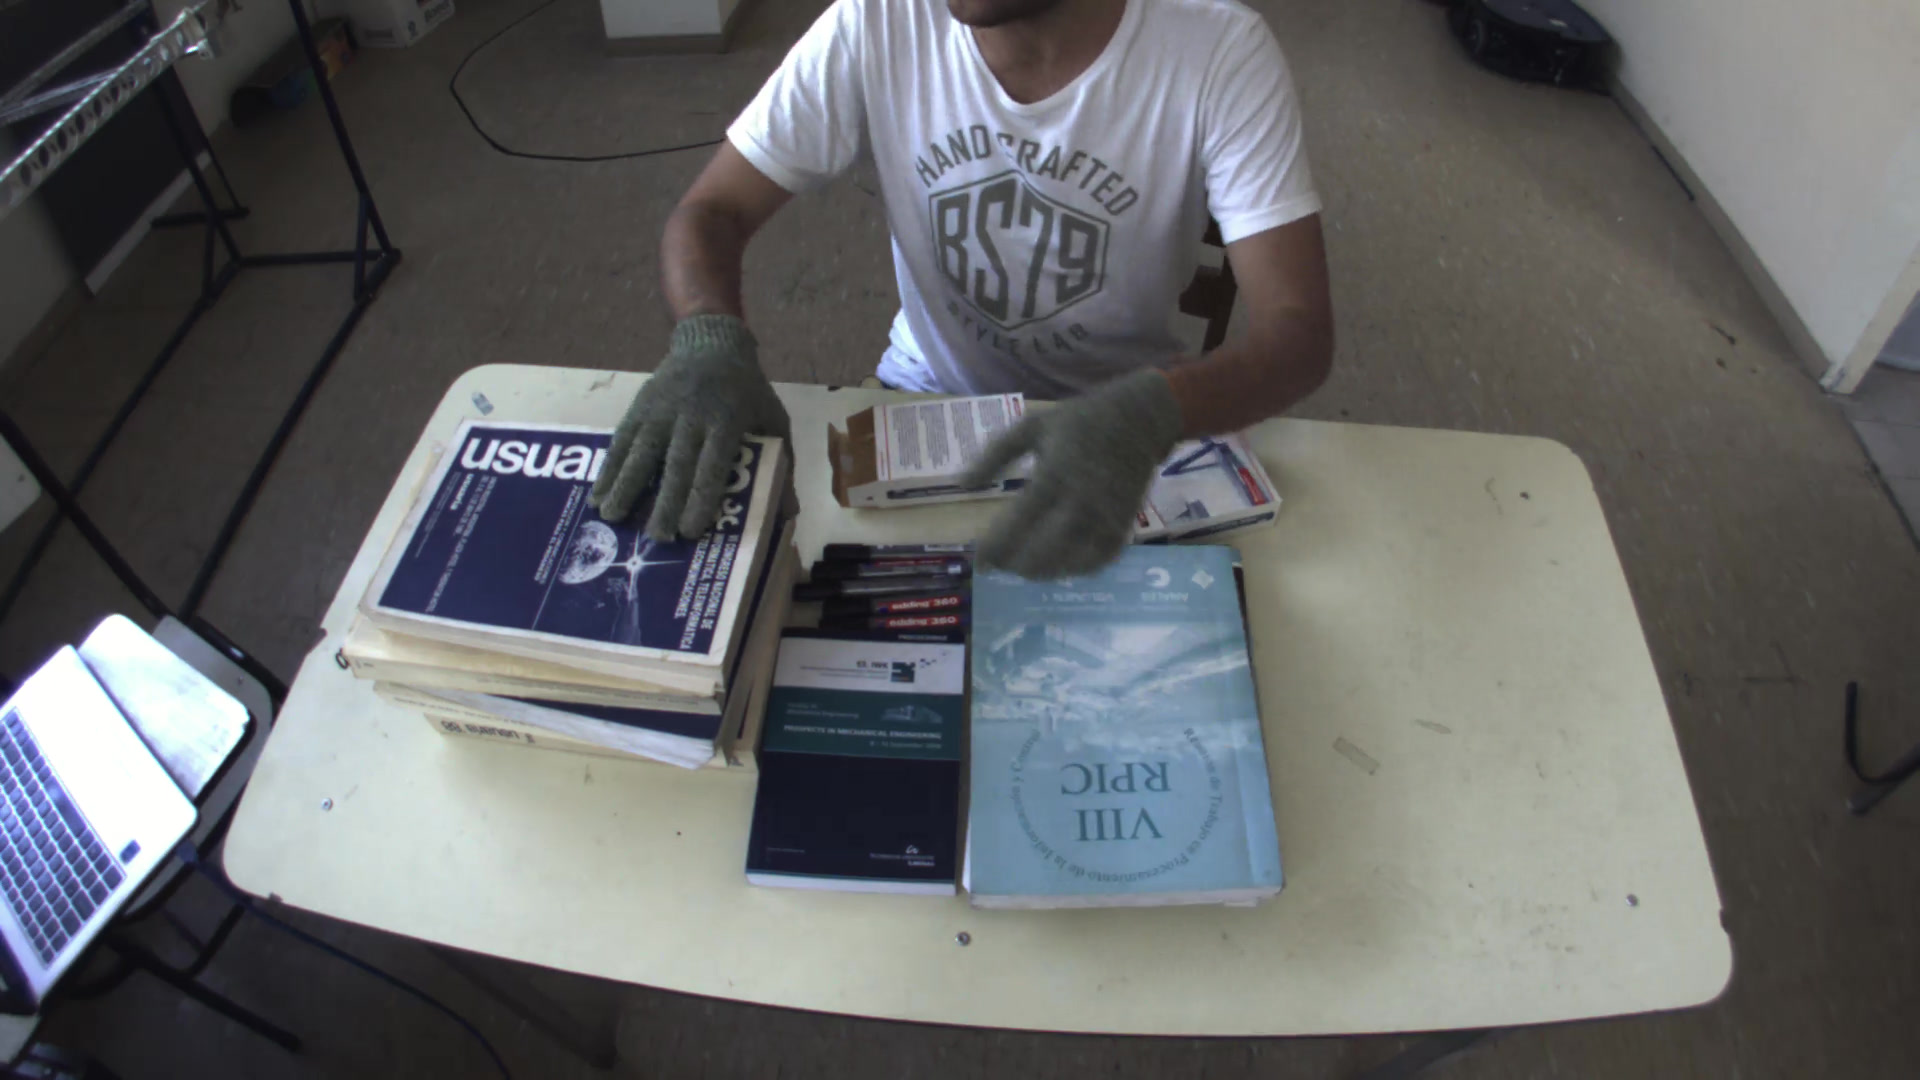hand: (936, 359, 1189, 593), (578, 301, 781, 547)
